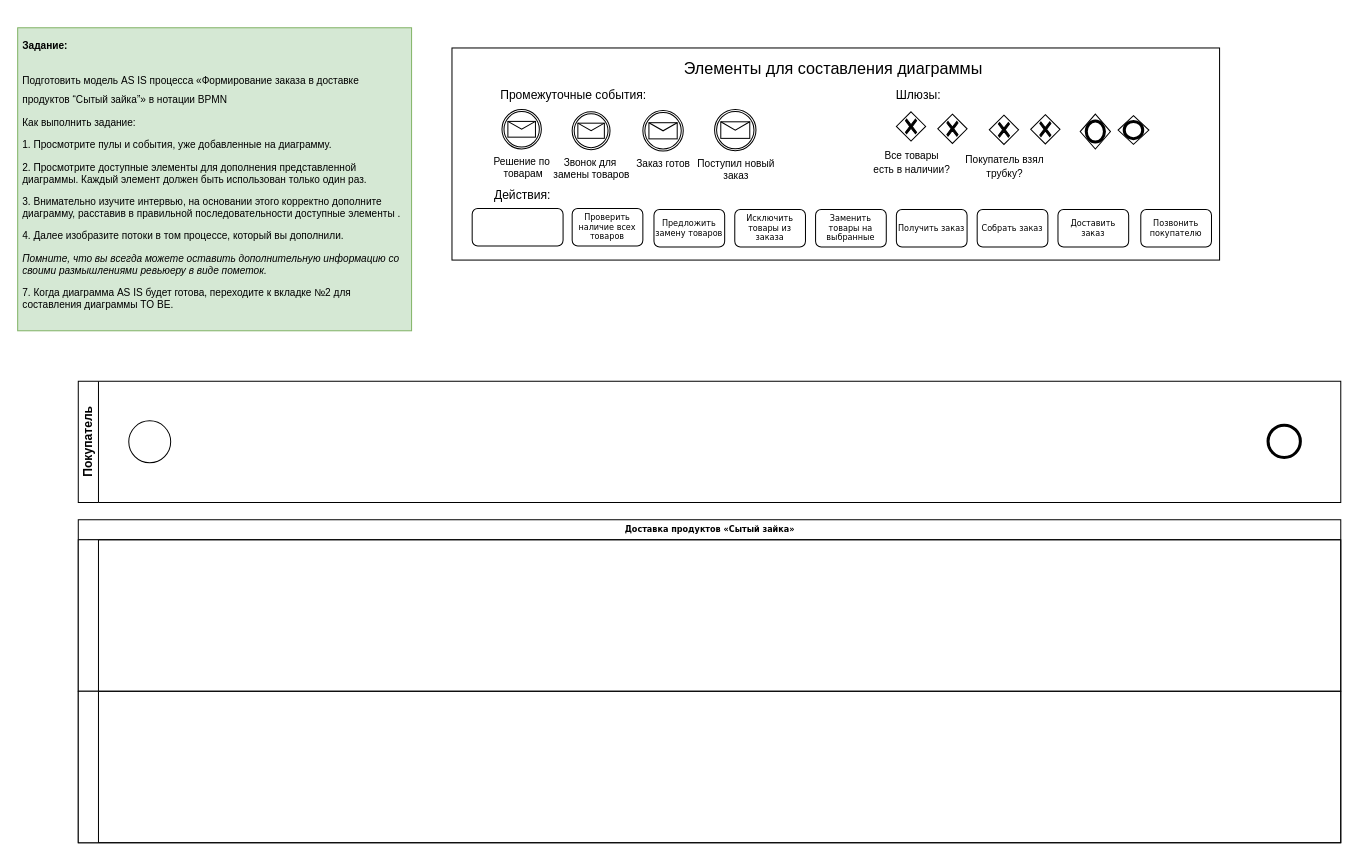
This 1358x861 diagram has some shape labels left out. Each missing label, with the centre of its shape:
Заказ оформлен: [149,441]
Заказ получен: [1283,441]
Заменить товары?: [1094,131]
Курьер: [709,766]
Оператор: [709,615]
Принять решение о замене или исключении товара: [517,227]
